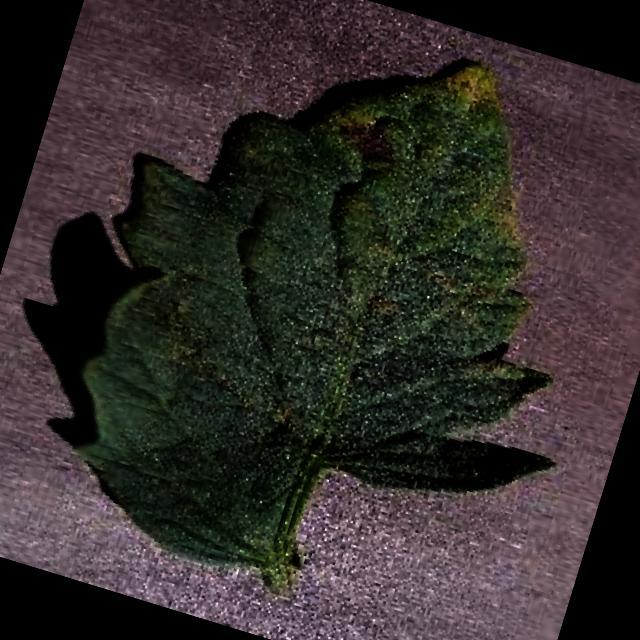Tomato Early blight leaf: (29, 0, 606, 631)
